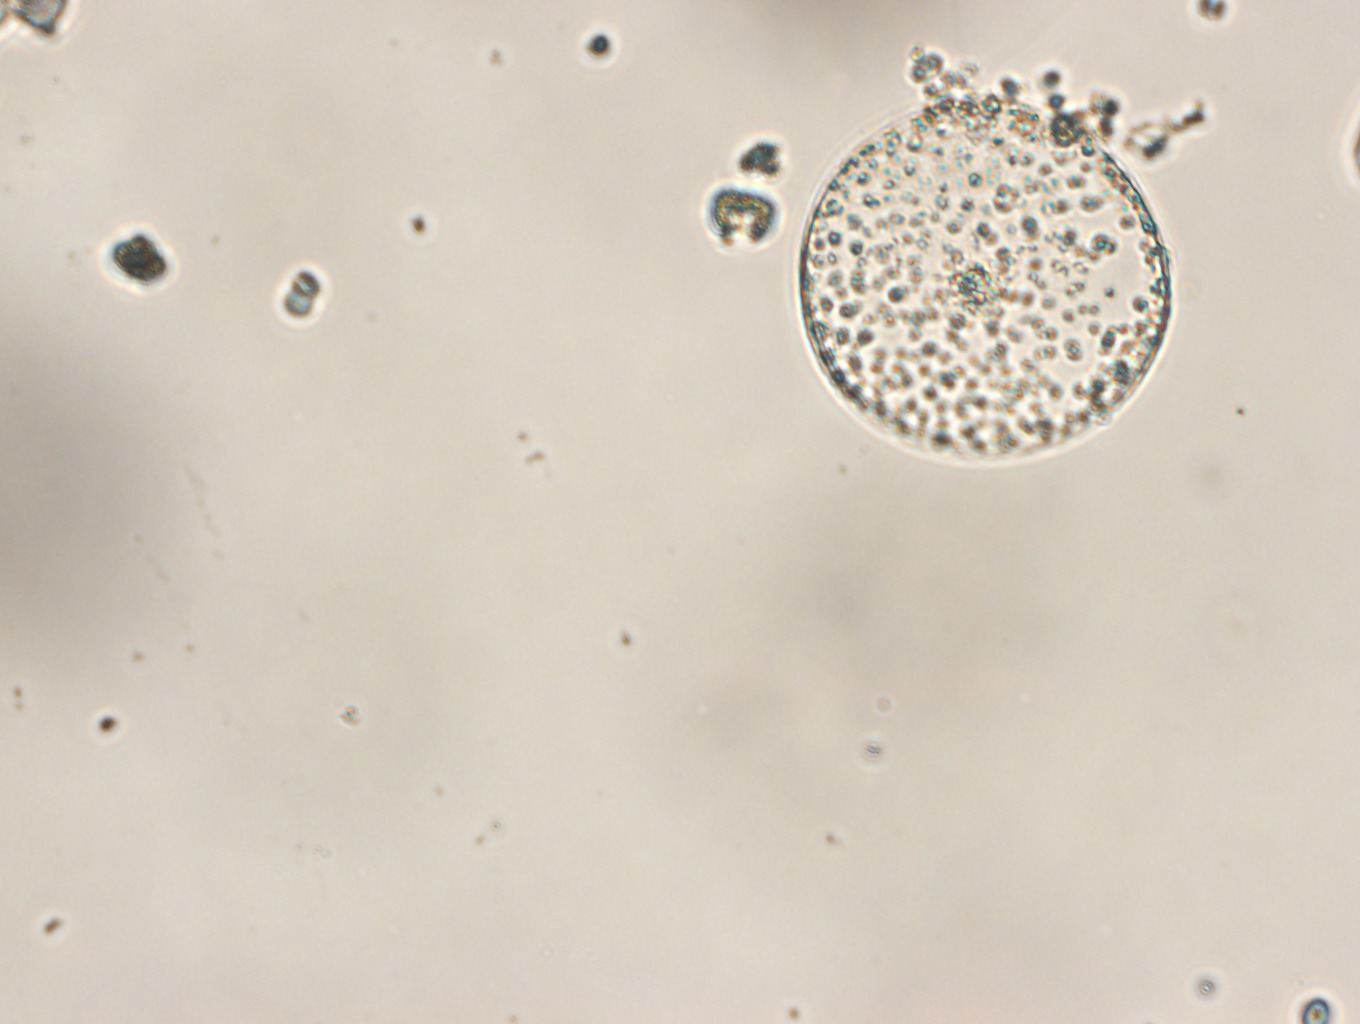coscinodiscus: (797, 98, 1170, 463)
